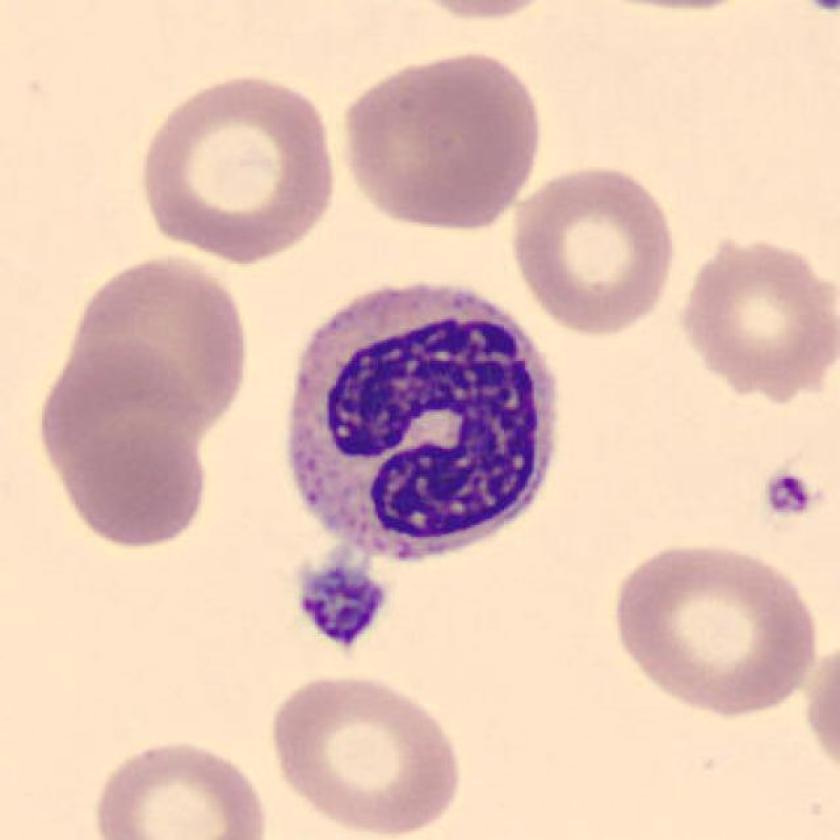neutrophil: (290, 285, 558, 556)
